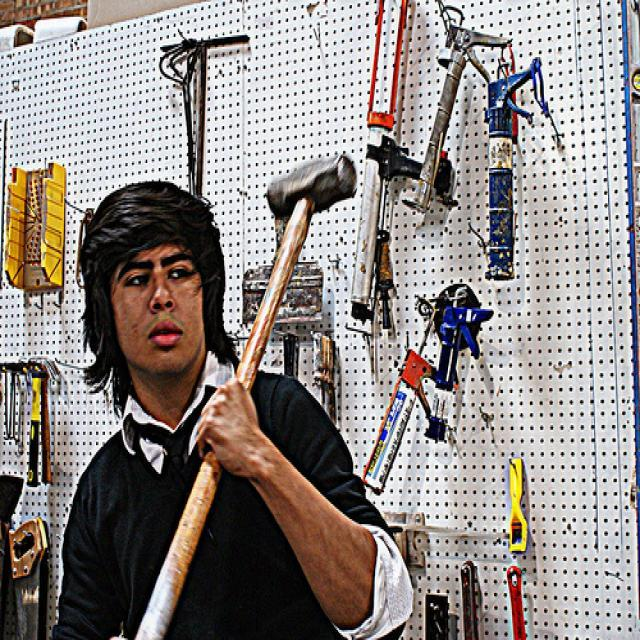hammer: (115, 141, 368, 640)
